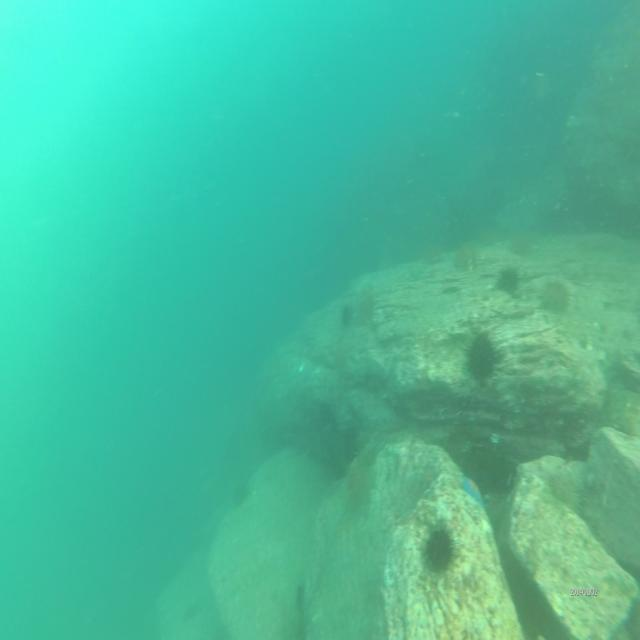echinus: (462, 333, 501, 387), (421, 520, 457, 572), (541, 274, 575, 320), (496, 265, 516, 296)
starfish: (458, 471, 482, 500)
